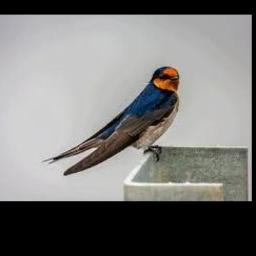Swallow: (42, 66, 179, 176)
